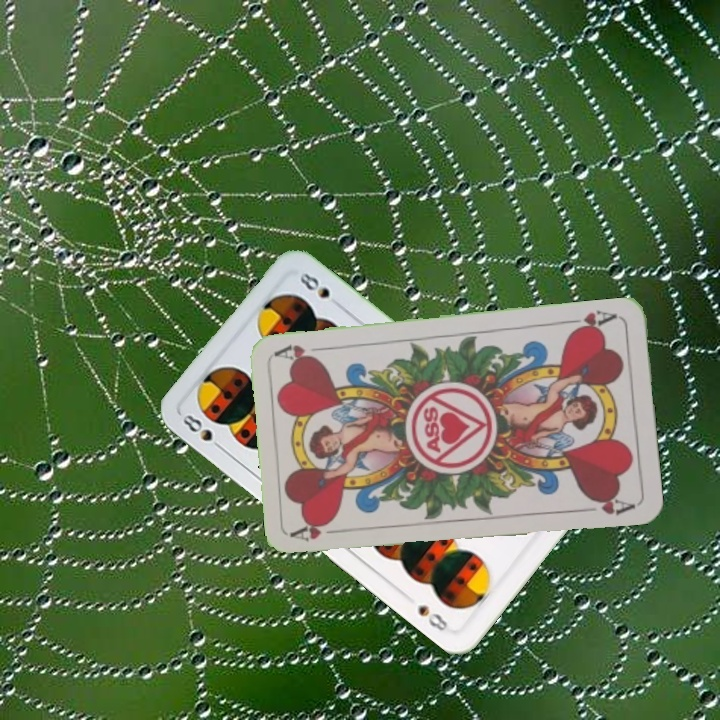HA: (561, 306, 619, 336), (289, 517, 349, 545)
S8: (178, 410, 228, 455)
